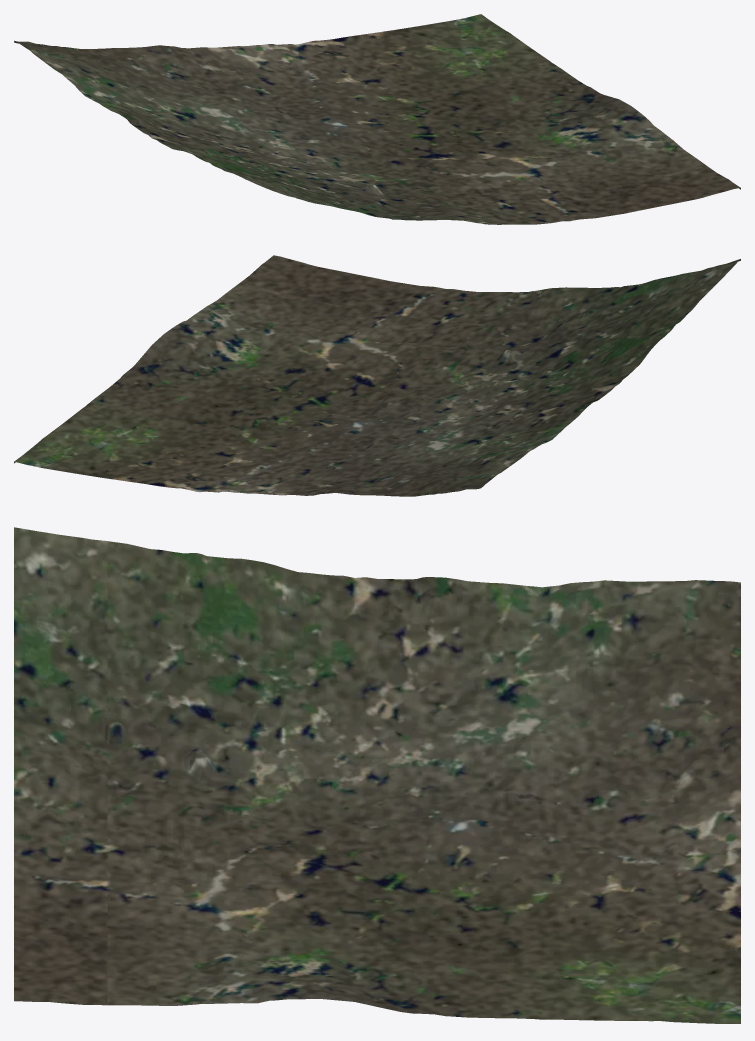
3 views of the same model, one above another, from view 1: azimuth 30°, elevation 25°; view 2: azimuth 150°, elevation 25°; view 3: azimuth 270°, elevation 25° (orthographic). The views are drawn at different scales.
Size of the model in its own units: 250 by 65.88 by 241.
Materials: 1 (1 with a texture image).
